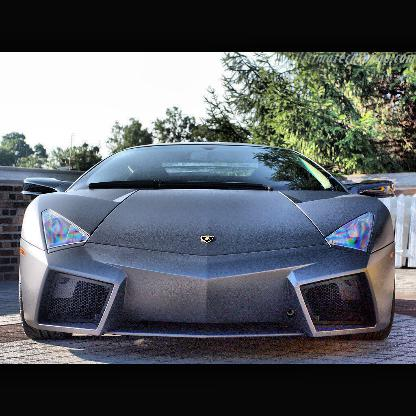Lamborghini Reventon Coupe 2008: (23, 144, 396, 345)
